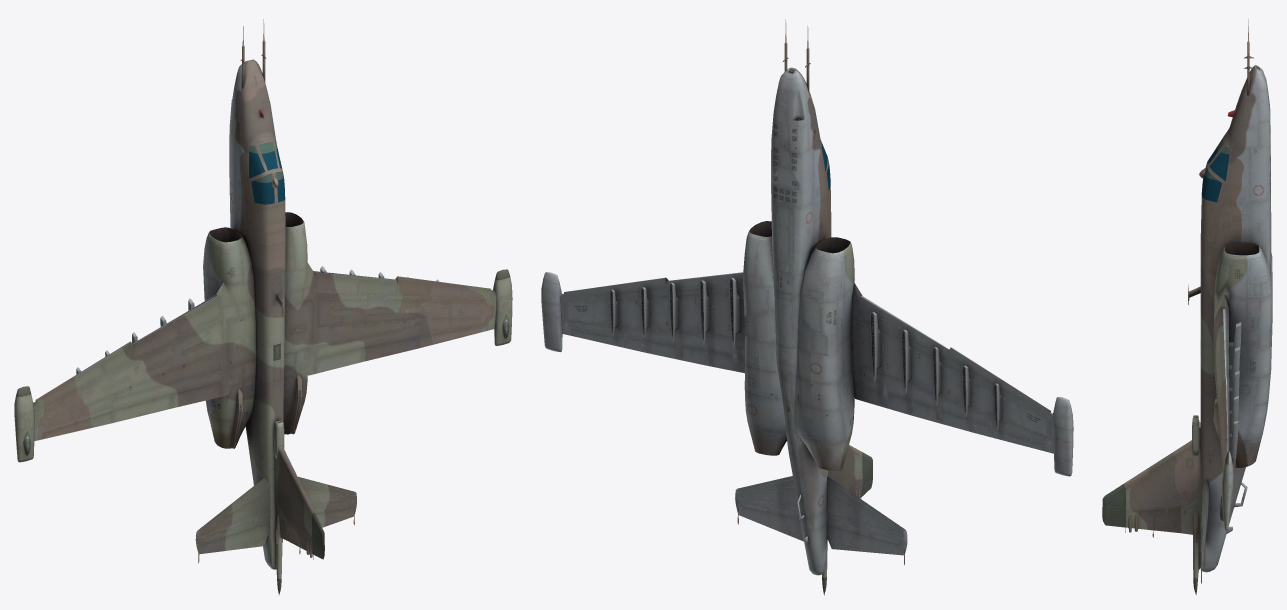
Rendered from Su-25_Frogfoot.obj.
3 views of the same model, side by side, from view 1: azimuth 30°, elevation 25°; view 2: azimuth 150°, elevation 25°; view 3: azimuth 270°, elevation 25° (orthographic). The views are drawn at different scales.
Parts seen in each view (by area): view 1: LOD0, VoletL01, VoletR01, BrakeL02, BrakeR02, Canopy01, ElevatorL01, FlapL01, Glass_Canopy01, FlapR01, Glass01, FlapL02 (+3 smaller); view 2: LOD0, VoletL01, VoletR01, ElevatorL01, ElevatorR01, FlapR01, FlapL01, FlapL02, AileronR01, AileronL01; view 3: LOD0, VoletR01, RudderL01, Canopy01, Glass01, Glass_Canopy01.
Part boxes in pixels (left/top/right/bottom): LOD0: left=14, top=19, right=512, bottom=595; VoletL01: left=35, top=294, right=222, bottom=407; VoletR01: left=313, top=271, right=491, bottom=297; BrakeL02: left=113, top=359, right=221, bottom=410; BrakeR02: left=316, top=325, right=419, bottom=358; Canopy01: left=249, top=170, right=285, bottom=245; ElevatorL01: left=199, top=522, right=267, bottom=554; FlapL01: left=112, top=394, right=172, bottom=422; Glass_Canopy01: left=251, top=171, right=285, bottom=204; FlapR01: left=361, top=336, right=419, bottom=361; Glass01: left=249, top=140, right=282, bottom=178; FlapL02: left=171, top=382, right=220, bottom=408; LOD0: left=541, top=19, right=1073, bottom=595; VoletL01: left=858, top=295, right=1050, bottom=417; VoletR01: left=564, top=272, right=743, bottom=300; ElevatorL01: left=827, top=523, right=903, bottom=555; ElevatorR01: left=738, top=505, right=803, bottom=541; FlapR01: left=644, top=339, right=708, bottom=365; FlapL01: left=911, top=399, right=973, bottom=432; FlapL02: left=861, top=385, right=912, bottom=415; AileronR01: left=571, top=328, right=645, bottom=352; AileronL01: left=972, top=419, right=1045, bottom=451; LOD0: left=1102, top=19, right=1272, bottom=595; VoletR01: left=1215, top=309, right=1229, bottom=464; RudderL01: left=1139, top=508, right=1180, bottom=532; Canopy01: left=1199, top=161, right=1225, bottom=242; Glass01: left=1208, top=137, right=1229, bottom=181; Glass_Canopy01: left=1201, top=163, right=1221, bottom=202.
Bounding box in the file's own units: 15.23 × 16.44 × 4.4.
4 materials, 4 textured.
